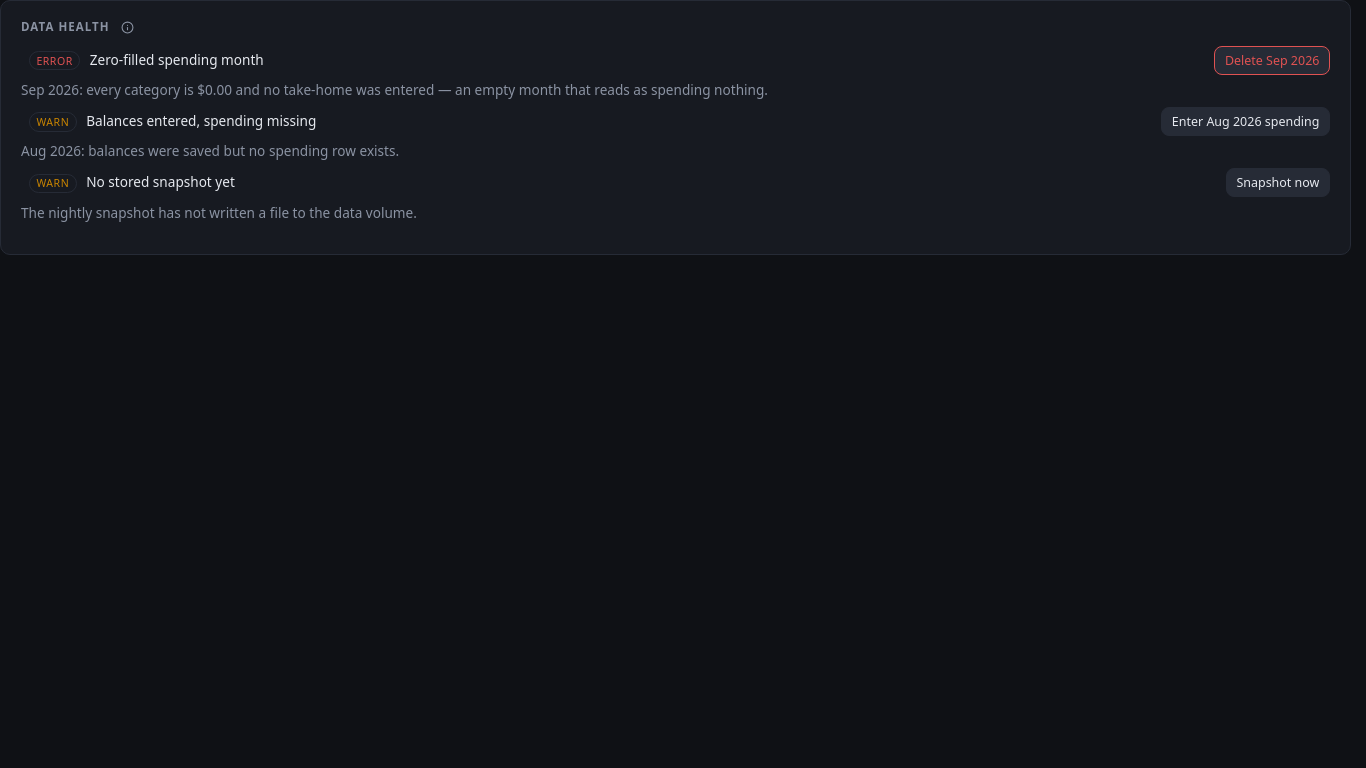
HealthCard › returns a refused toast Undo to Data health after its action leaves
Click the button "Delete Sep 2026".
click(1272, 60)  # box [1214,46,1330,75]
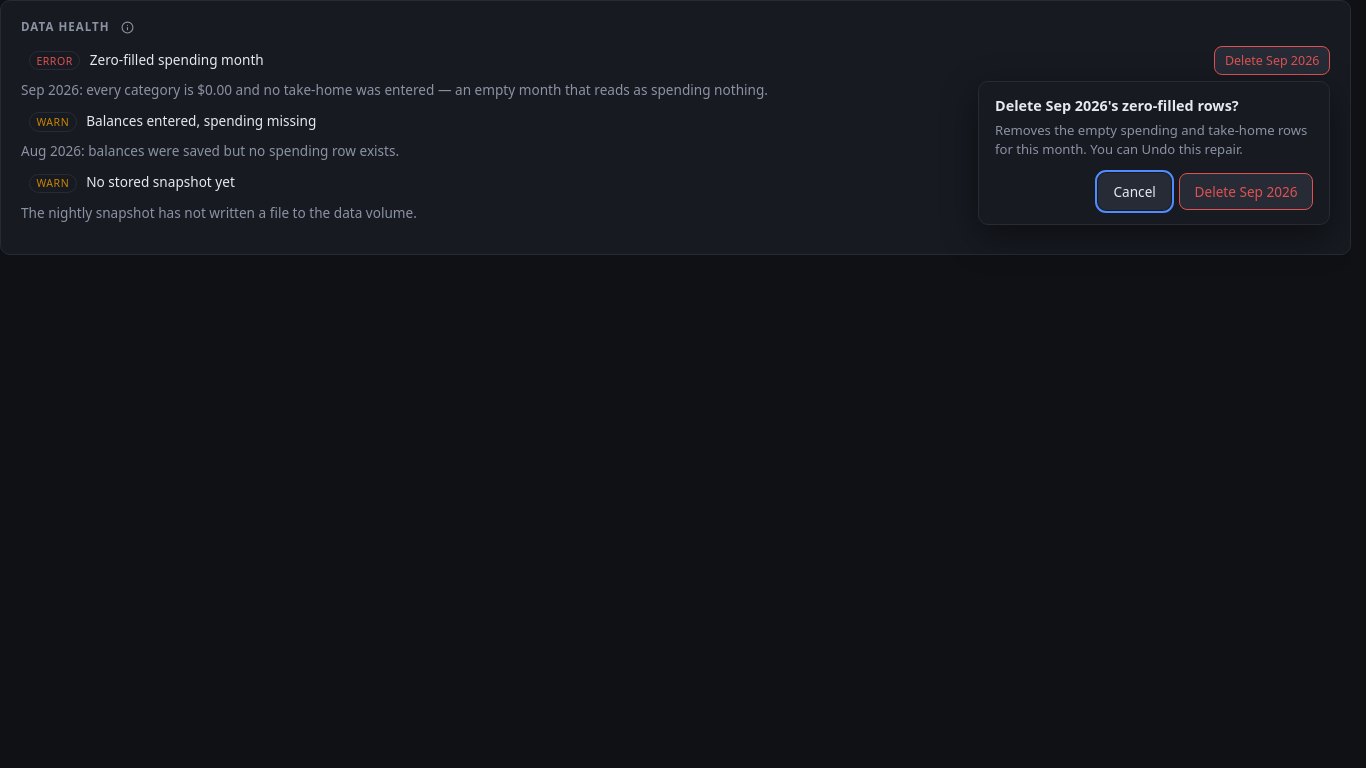
Click the button "Delete Sep 2026" below "Delete Sep 2026's zero-filled rows?".
click(1246, 192)  # box [1179,173,1313,210]
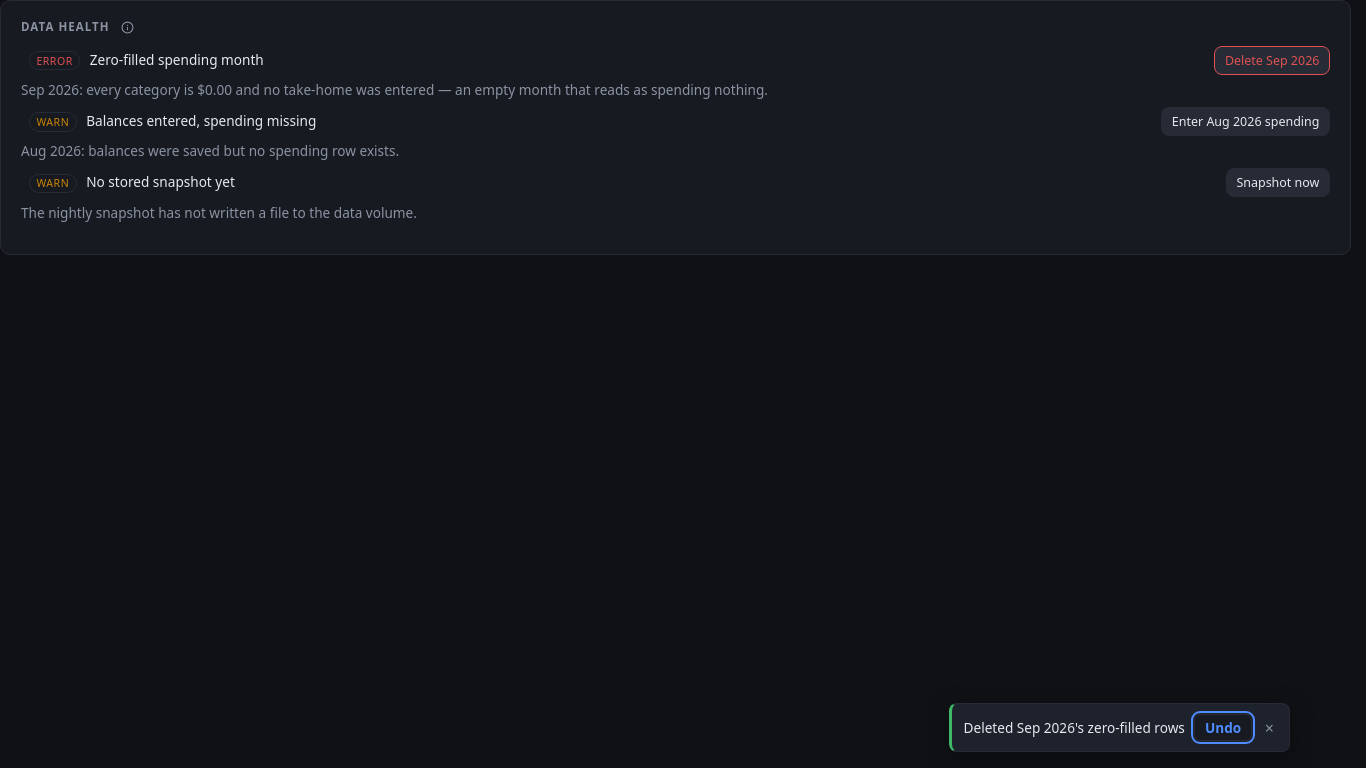
Click the button "Undo".
click(1223, 728)  # box [1194,714,1252,741]
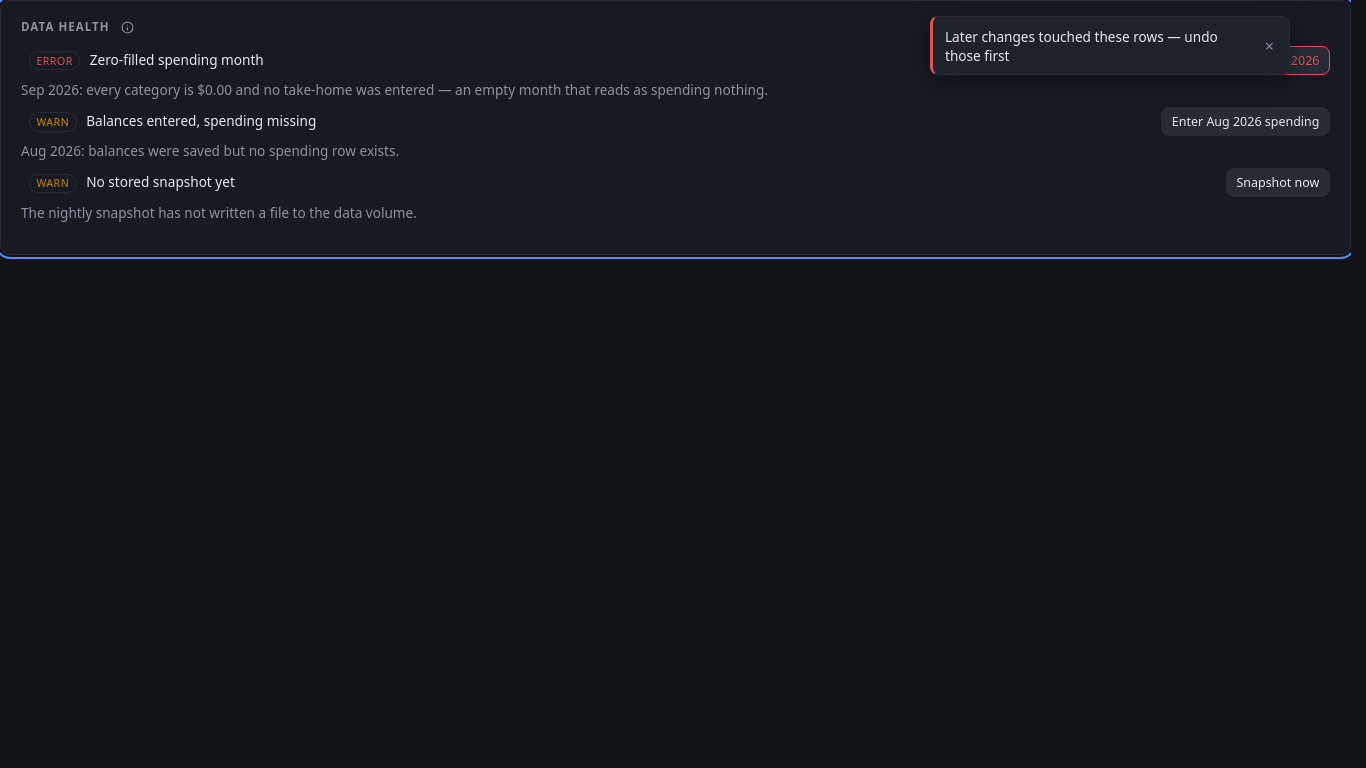
Now the text "Later changes touched these rows — undo those first" is shown, box [945,27,1252,65]
